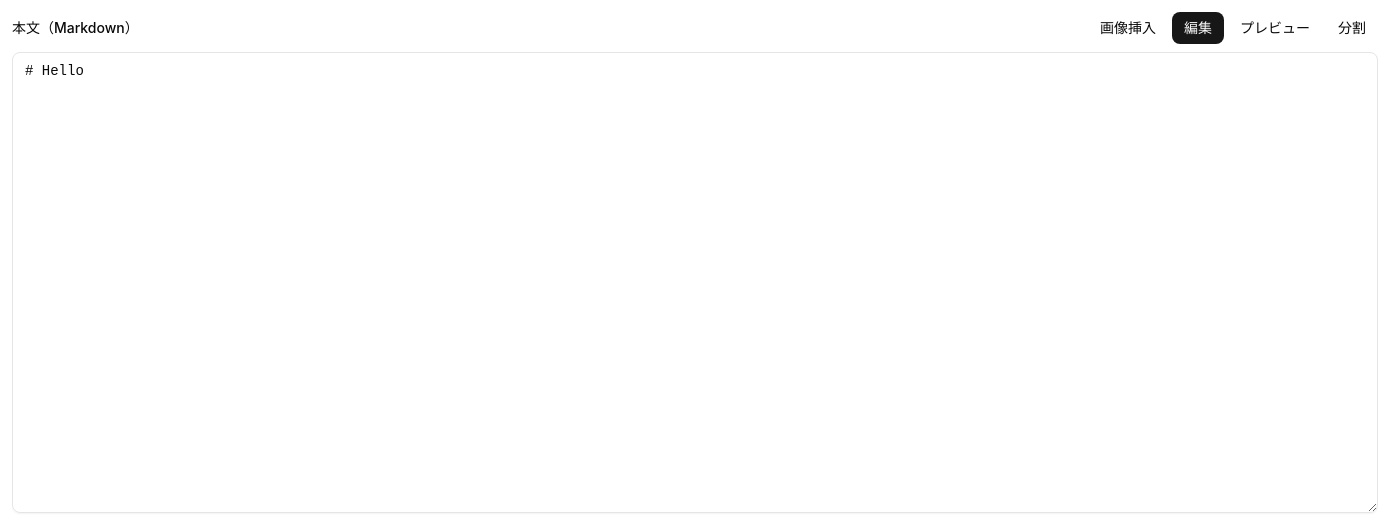
Test case: MarkdownEditor › プレビュータブに切り替えるとプレビューが表示される
The image size is (1390, 530).
Click the button "プレビュー" at (1275, 28), box [1228,12,1322,44]
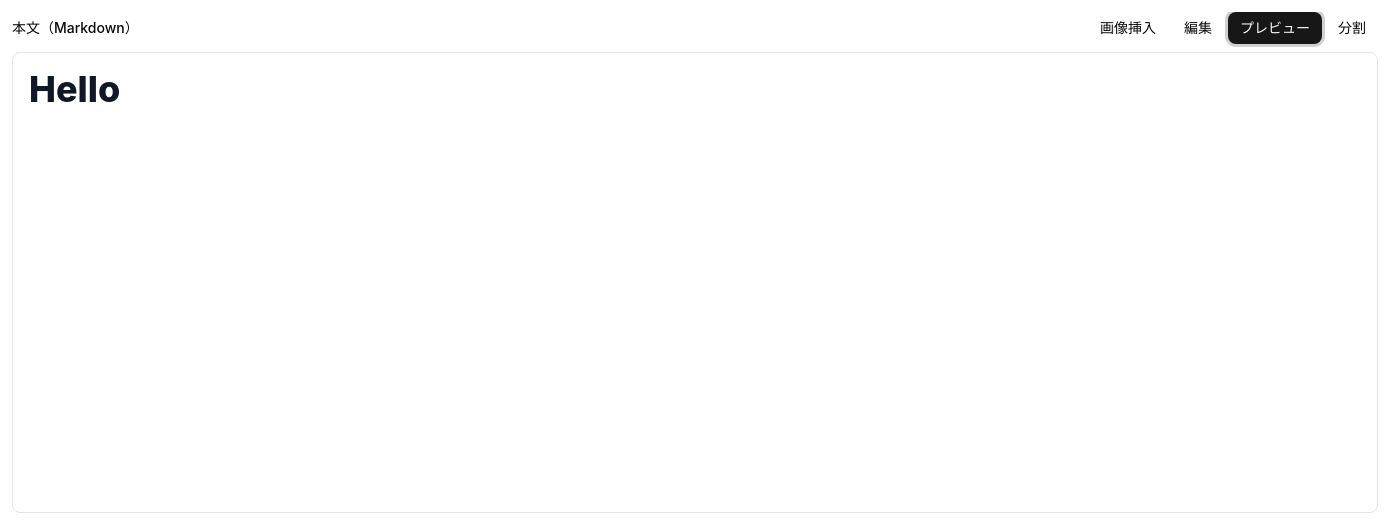
Expected: the element with test id "preview-pane" is shown
Expected: the heading "Hello" is shown, [29,67,120,111]
